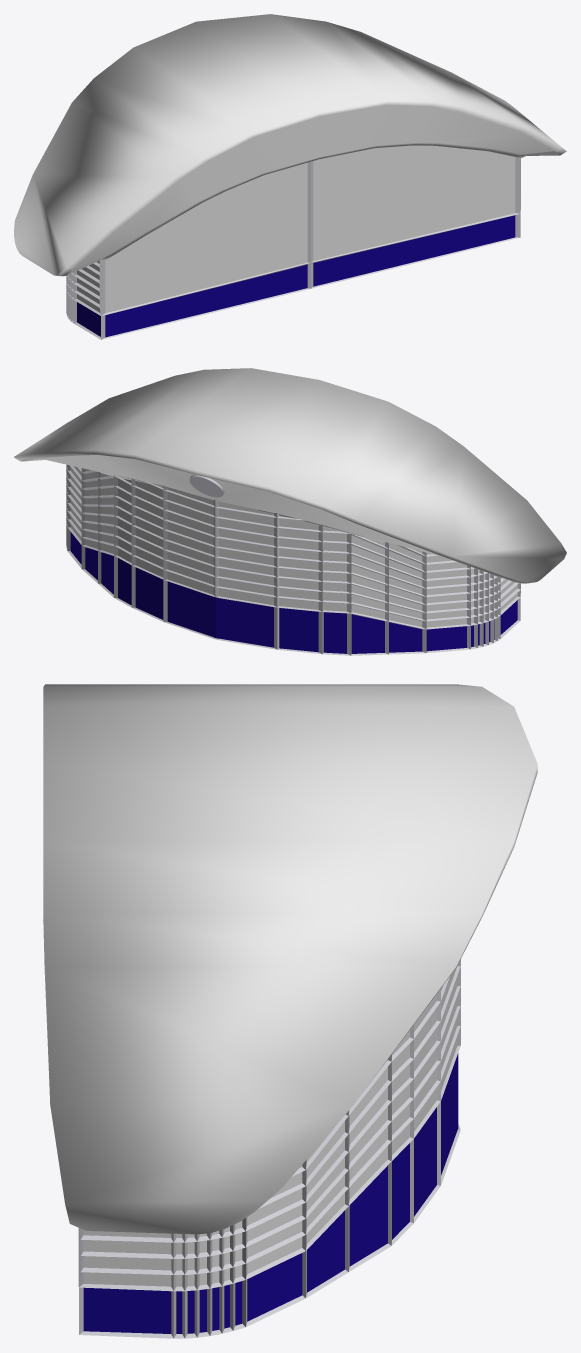
File: parc-des-princes.glb
The picture shows the model from 3 angles, top to bottom: view 1: azimuth 30°, elevation 25°; view 2: azimuth 150°, elevation 25°; view 3: azimuth 270°, elevation 25°; orthographic projection. The views are drawn at different scales.
Parts seen in each view (by area): view 1: Toit, Mur_Vitres, Mur_Cadres; view 2: Toit, Mur_Vitres, Mur_Cadres, Logo; view 3: Toit, Mur_Vitres, Mur_Cadres.
Part boxes in pixels (left/top/right/bottom): Toit: left=14, top=14, right=566, bottom=276; Mur_Vitres: left=77, top=145, right=515, bottom=337; Mur_Cadres: left=66, top=157, right=520, bottom=339; Toit: left=14, top=368, right=566, bottom=583; Mur_Vitres: left=70, top=466, right=517, bottom=653; Mur_Cadres: left=66, top=464, right=520, bottom=655; Logo: left=189, top=474, right=224, bottom=497; Toit: left=43, top=684, right=537, bottom=1234; Mur_Vitres: left=83, top=966, right=458, bottom=1333; Mur_Cadres: left=78, top=959, right=460, bottom=1338.
Bounding box in the file's own units: 158 × 53.41 × 65.33.
